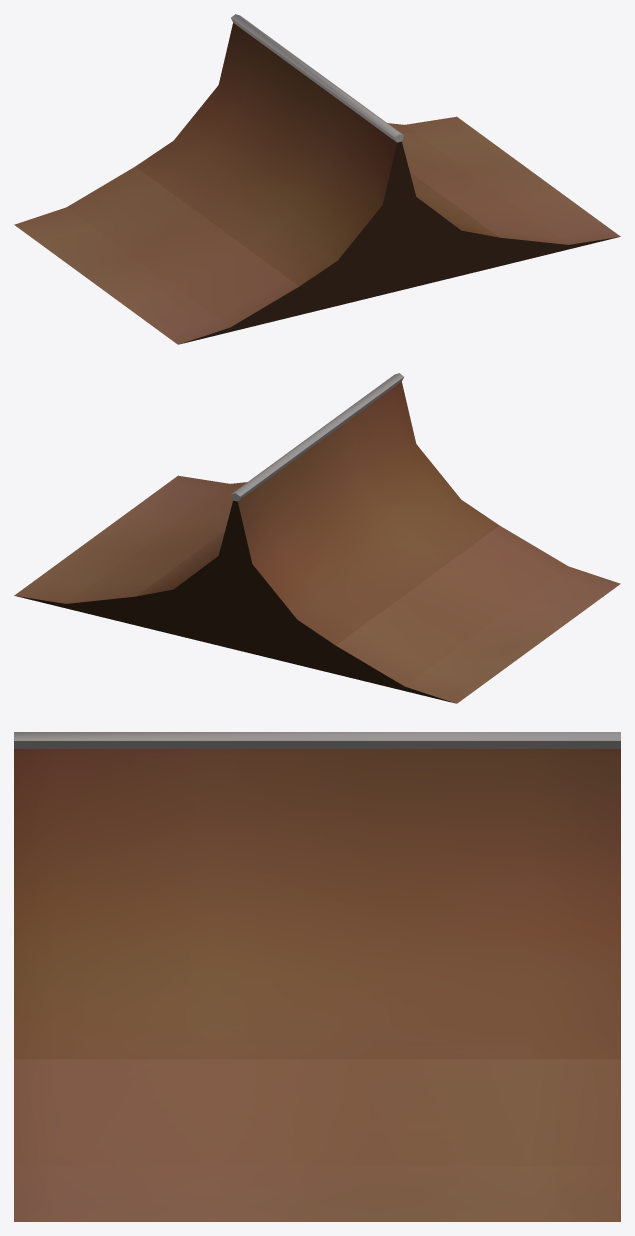
Rendered from SkateboardQuarterpipeSpine.glb.
The picture shows the model from 3 angles, top to bottom: view 1: azimuth 30°, elevation 25°; view 2: azimuth 150°, elevation 25°; view 3: azimuth 270°, elevation 25°; orthographic projection. The views are drawn at different scales.
Parts seen in each view (by area): view 1: SkateboardQuarterpipeSpine; view 2: SkateboardQuarterpipeSpine; view 3: SkateboardQuarterpipeSpine.
Part boxes in pixels (box(x1,y1,x2,y2)): SkateboardQuarterpipeSpine: box(14, 14, 620, 344); SkateboardQuarterpipeSpine: box(14, 373, 620, 703); SkateboardQuarterpipeSpine: box(14, 732, 620, 1221).
Bounding box in the file's own units: 6.24 × 2.11 × 4.
1 material, 1 textured.
